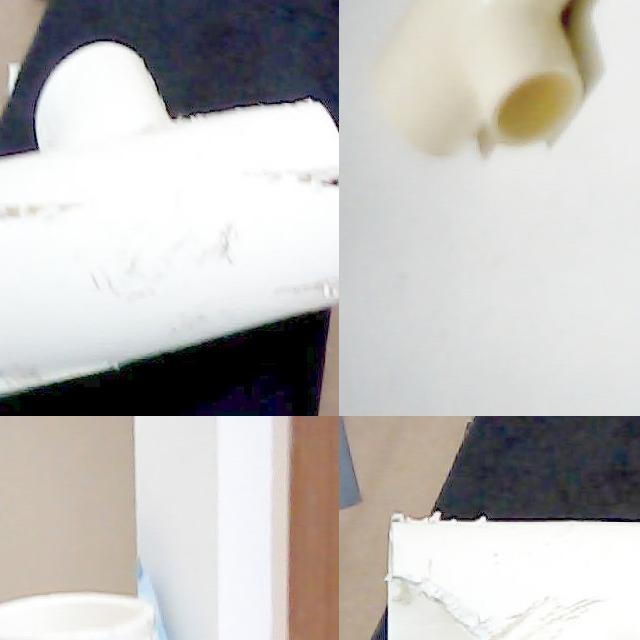Defective: (94, 230, 247, 303), (0, 317, 133, 392), (384, 563, 509, 640), (202, 140, 339, 206), (0, 173, 85, 241), (511, 594, 616, 640), (388, 511, 536, 541), (232, 261, 339, 299)
T Joint: (0, 42, 339, 402), (372, 0, 586, 159), (385, 516, 640, 640)
